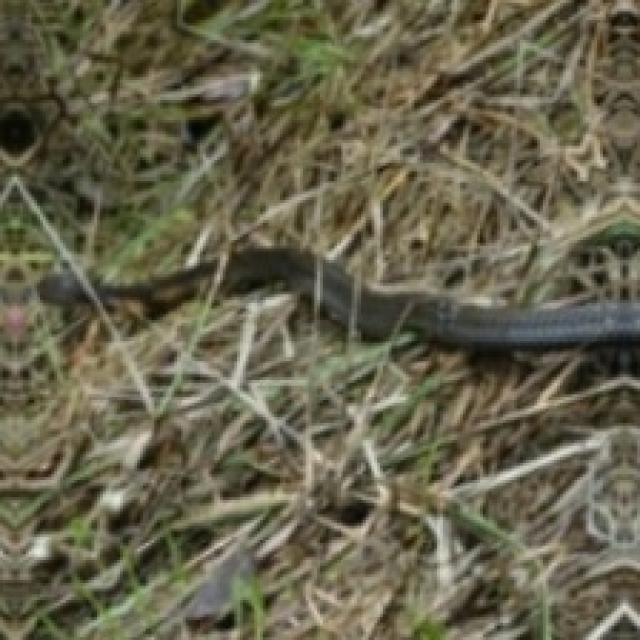king cobra: (226, 246, 637, 349)
